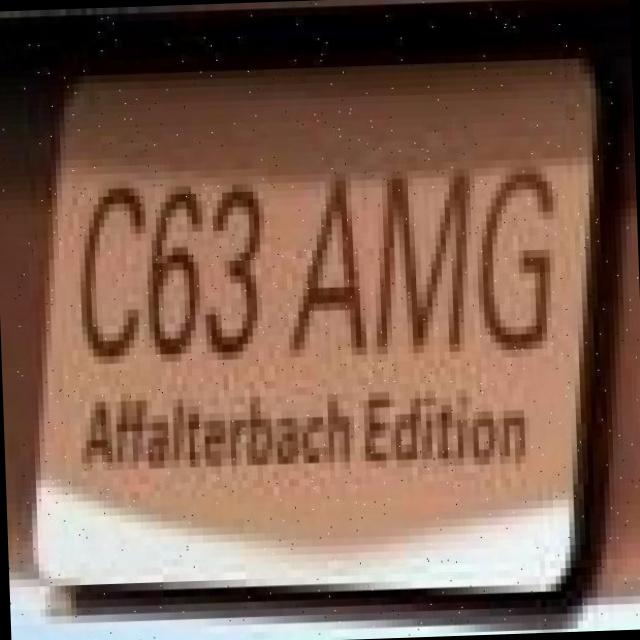LicensePlate: (12, 16, 606, 640)
